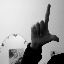l: (28, 3, 61, 49)
